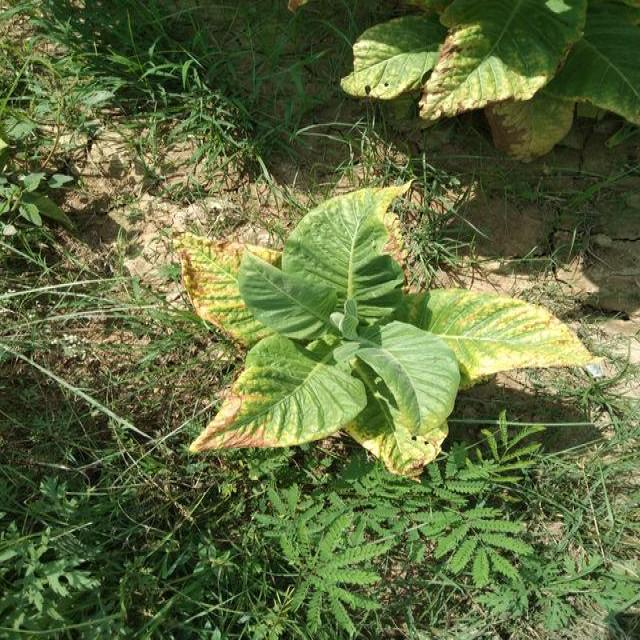crop: (172, 178, 590, 477)
